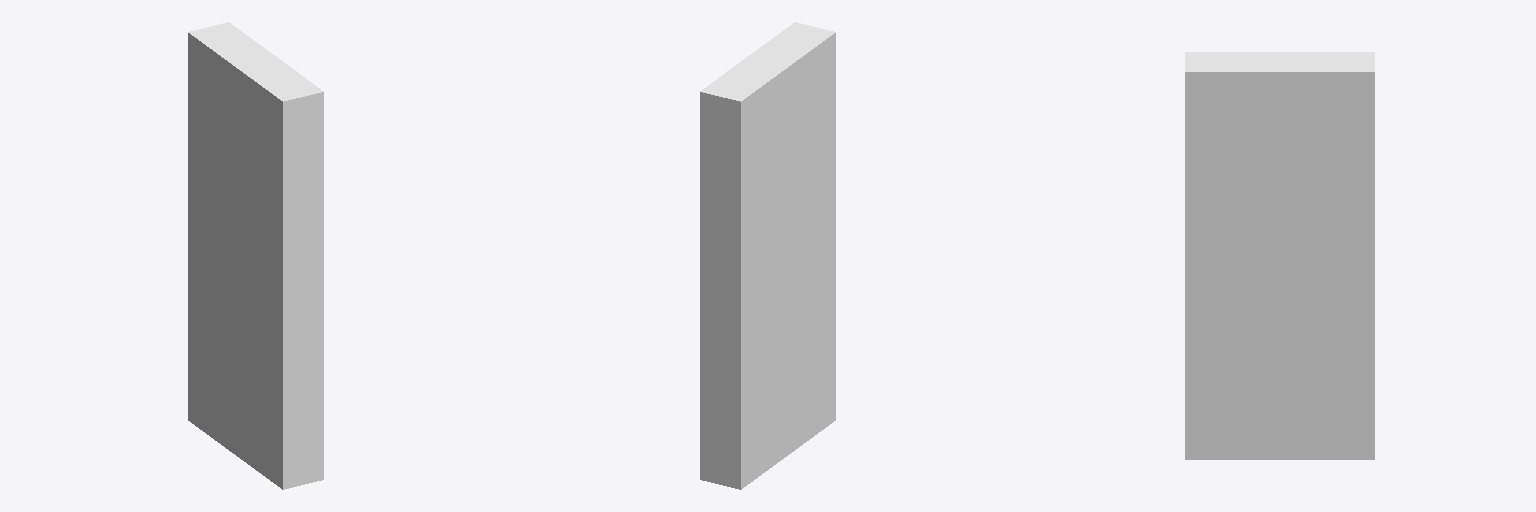
Rendered from door_1_obj.obj.
3 views of the same model, side by side, from view 1: azimuth 30°, elevation 25°; view 2: azimuth 150°, elevation 25°; view 3: azimuth 270°, elevation 25° (orthographic).
Parts seen in each view (by area): view 1: door_1_obj; view 2: door_1_obj; view 3: door_1_obj.
Boxes of the visible parts, box(x1,y1,x2,y2) form: door_1_obj: box(188, 22, 323, 489); door_1_obj: box(700, 22, 835, 489); door_1_obj: box(1185, 52, 1374, 459).
Size of the model in its own units: 1 by 9 by 4.